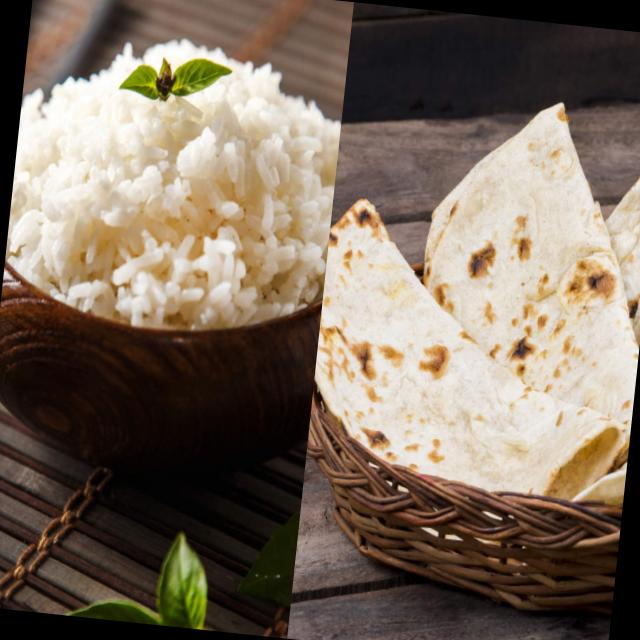rice: (10, 33, 341, 328)
roti: (314, 104, 640, 505)
